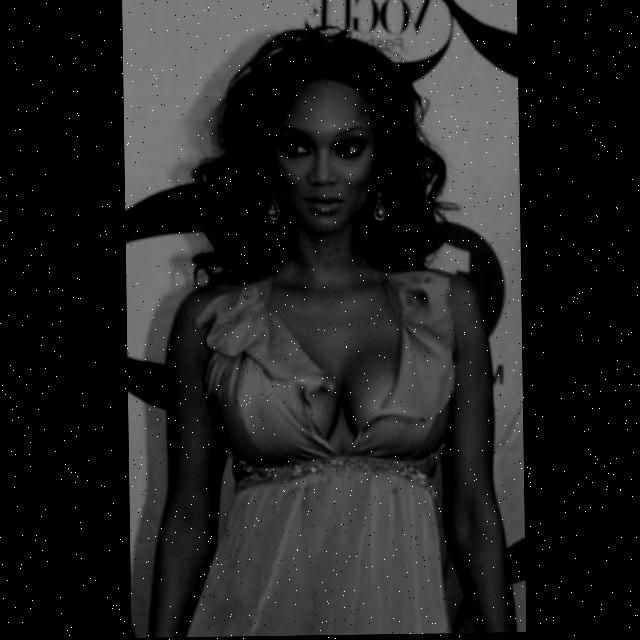face: (243, 69, 389, 230)
